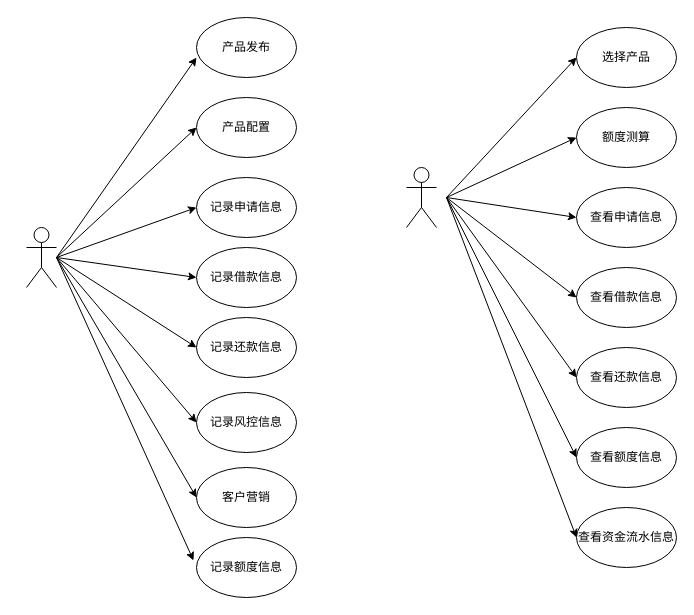
Some shapes in this 694 by 615 pixel diagram are drawn without their labels. The shapes that lost their labels are listed below. From the top down, each one's centre as x and y in pixels, then its label:
At point 421,197: "供应商".
At point 41,257: "平台运营".
